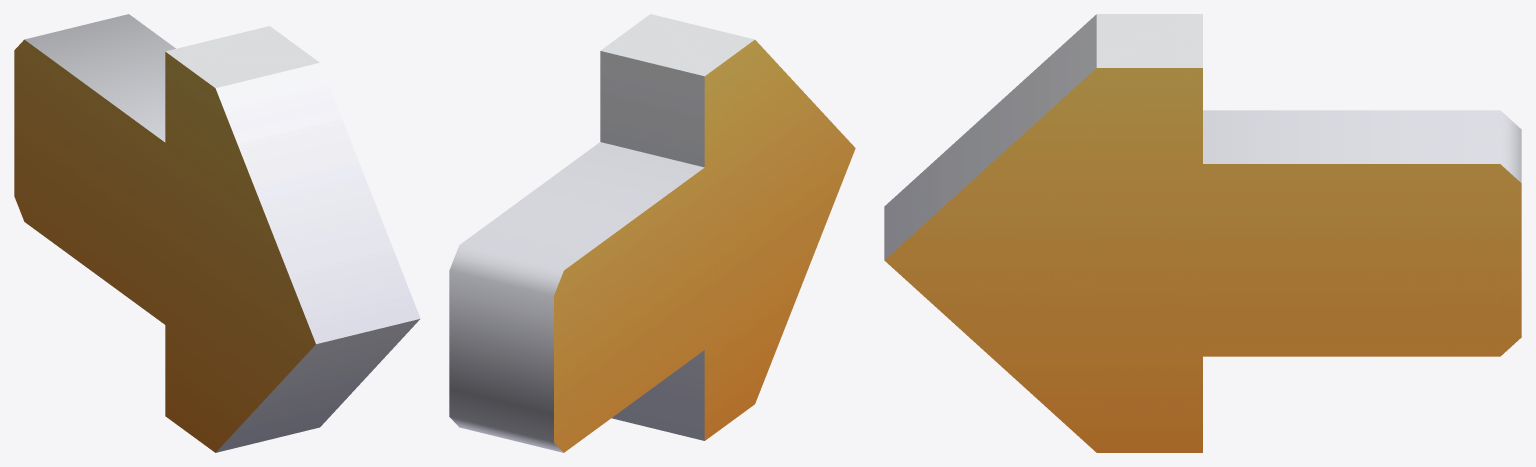
Rendered from arrow-standing-transformed-transformed.glb.
3 renders of one model, left to right at view 1: azimuth 30°, elevation 25°; view 2: azimuth 150°, elevation 25°; view 3: azimuth 270°, elevation 25°, orthographic. The views are drawn at different scales.
Visible parts, largest first — view 1: arrow-standing; view 2: arrow-standing; view 3: arrow-standing.
Boxes of the visible parts, x1=… form: arrow-standing: x1=14, y1=14, x2=420, y2=452; arrow-standing: x1=449, y1=14, x2=855, y2=452; arrow-standing: x1=884, y1=14, x2=1521, y2=452.
Bounding box in the file's own units: 0.6001 × 2 × 3.
1 material, 1 textured.
